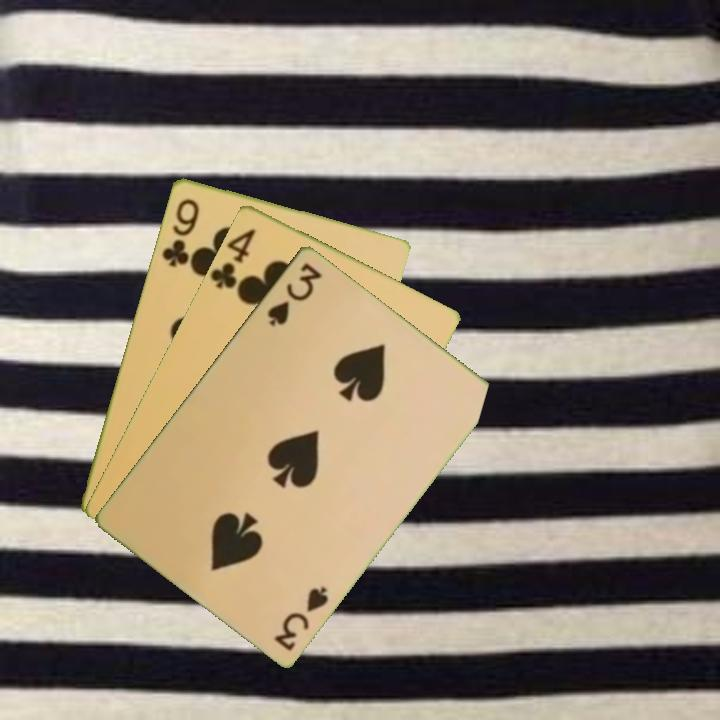3s: (270, 582, 332, 653), (263, 259, 325, 329)
4c: (207, 224, 258, 292)
9c: (158, 194, 202, 270)
